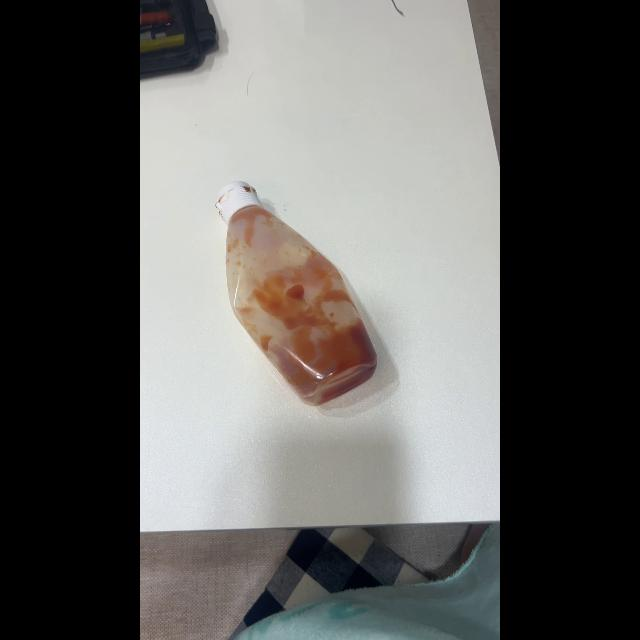dirty: (226, 191, 374, 403)
